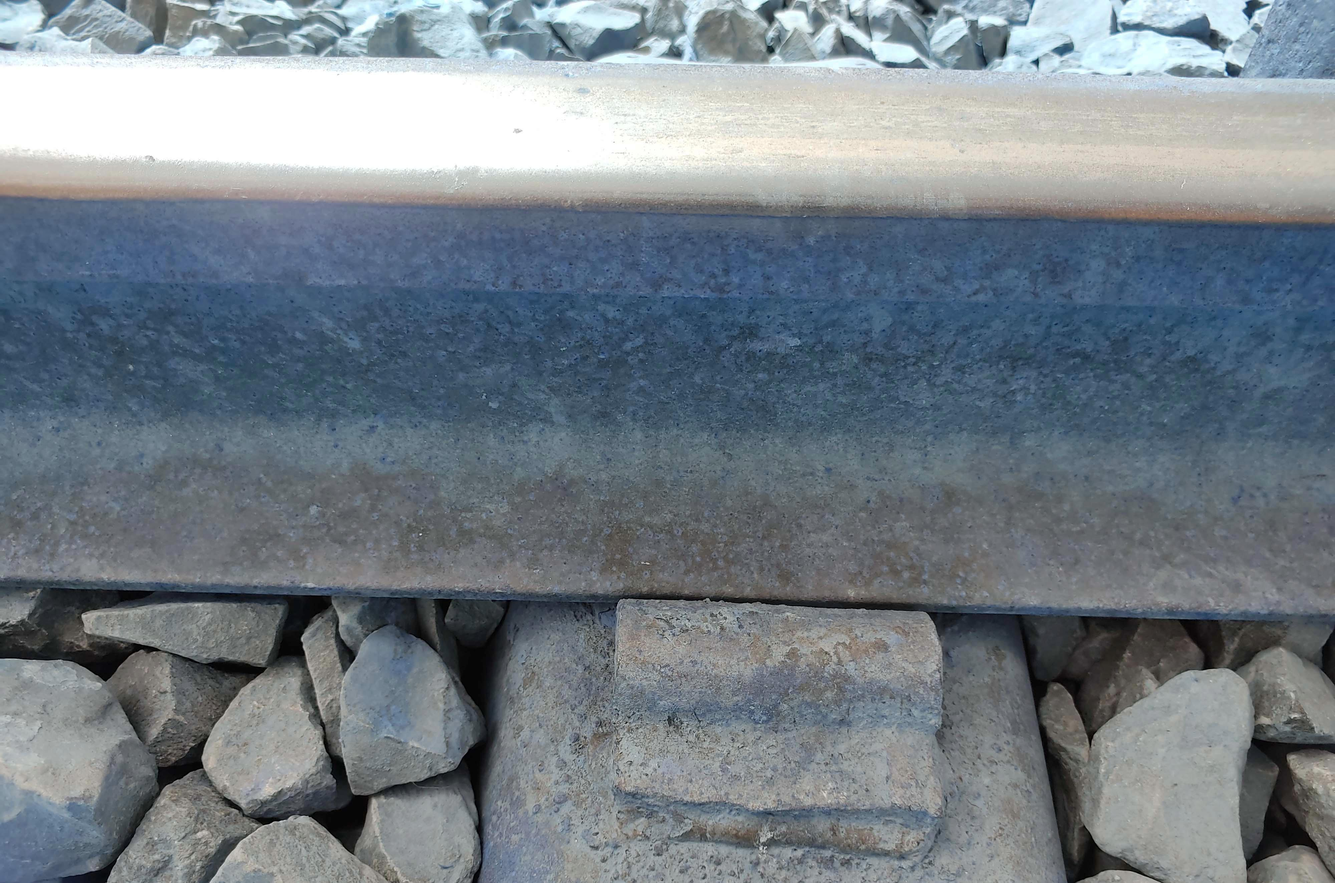loss: (590, 587, 972, 870)
